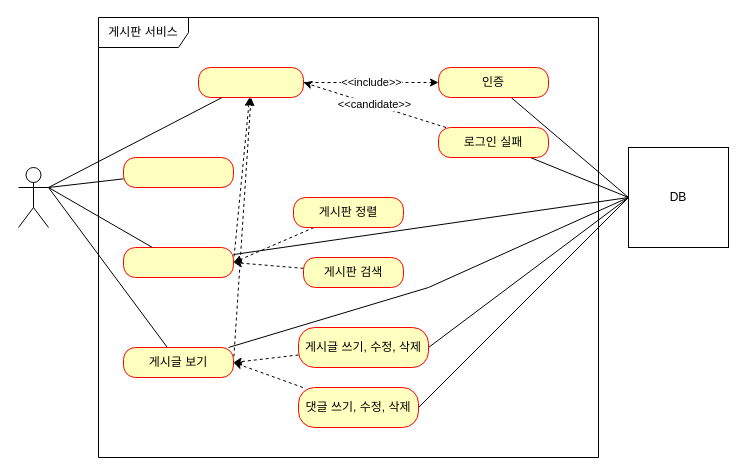
Image size: 746x475. Some labels were removed from this diagram. The shapes that lost their labels are listed below. From the top down, each one's centre as x and y in pixels, then its label:
the point at 251,82: 회원 로그인
the point at 178,172: 회원 가입
the point at 33,197: 사용자
the point at 178,262: 게시판 보기
